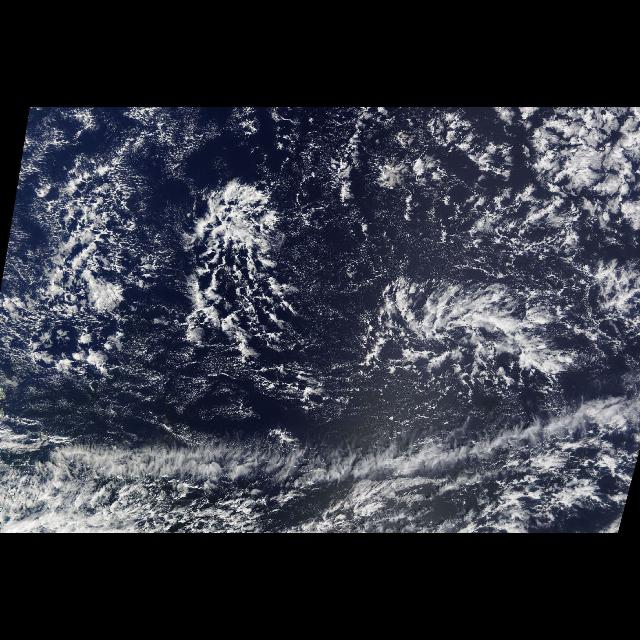Fish: (170, 173, 590, 405), (41, 153, 163, 337)
Gravel: (162, 162, 356, 412), (373, 271, 639, 399)
Sugar: (284, 120, 526, 344), (17, 347, 270, 443)
